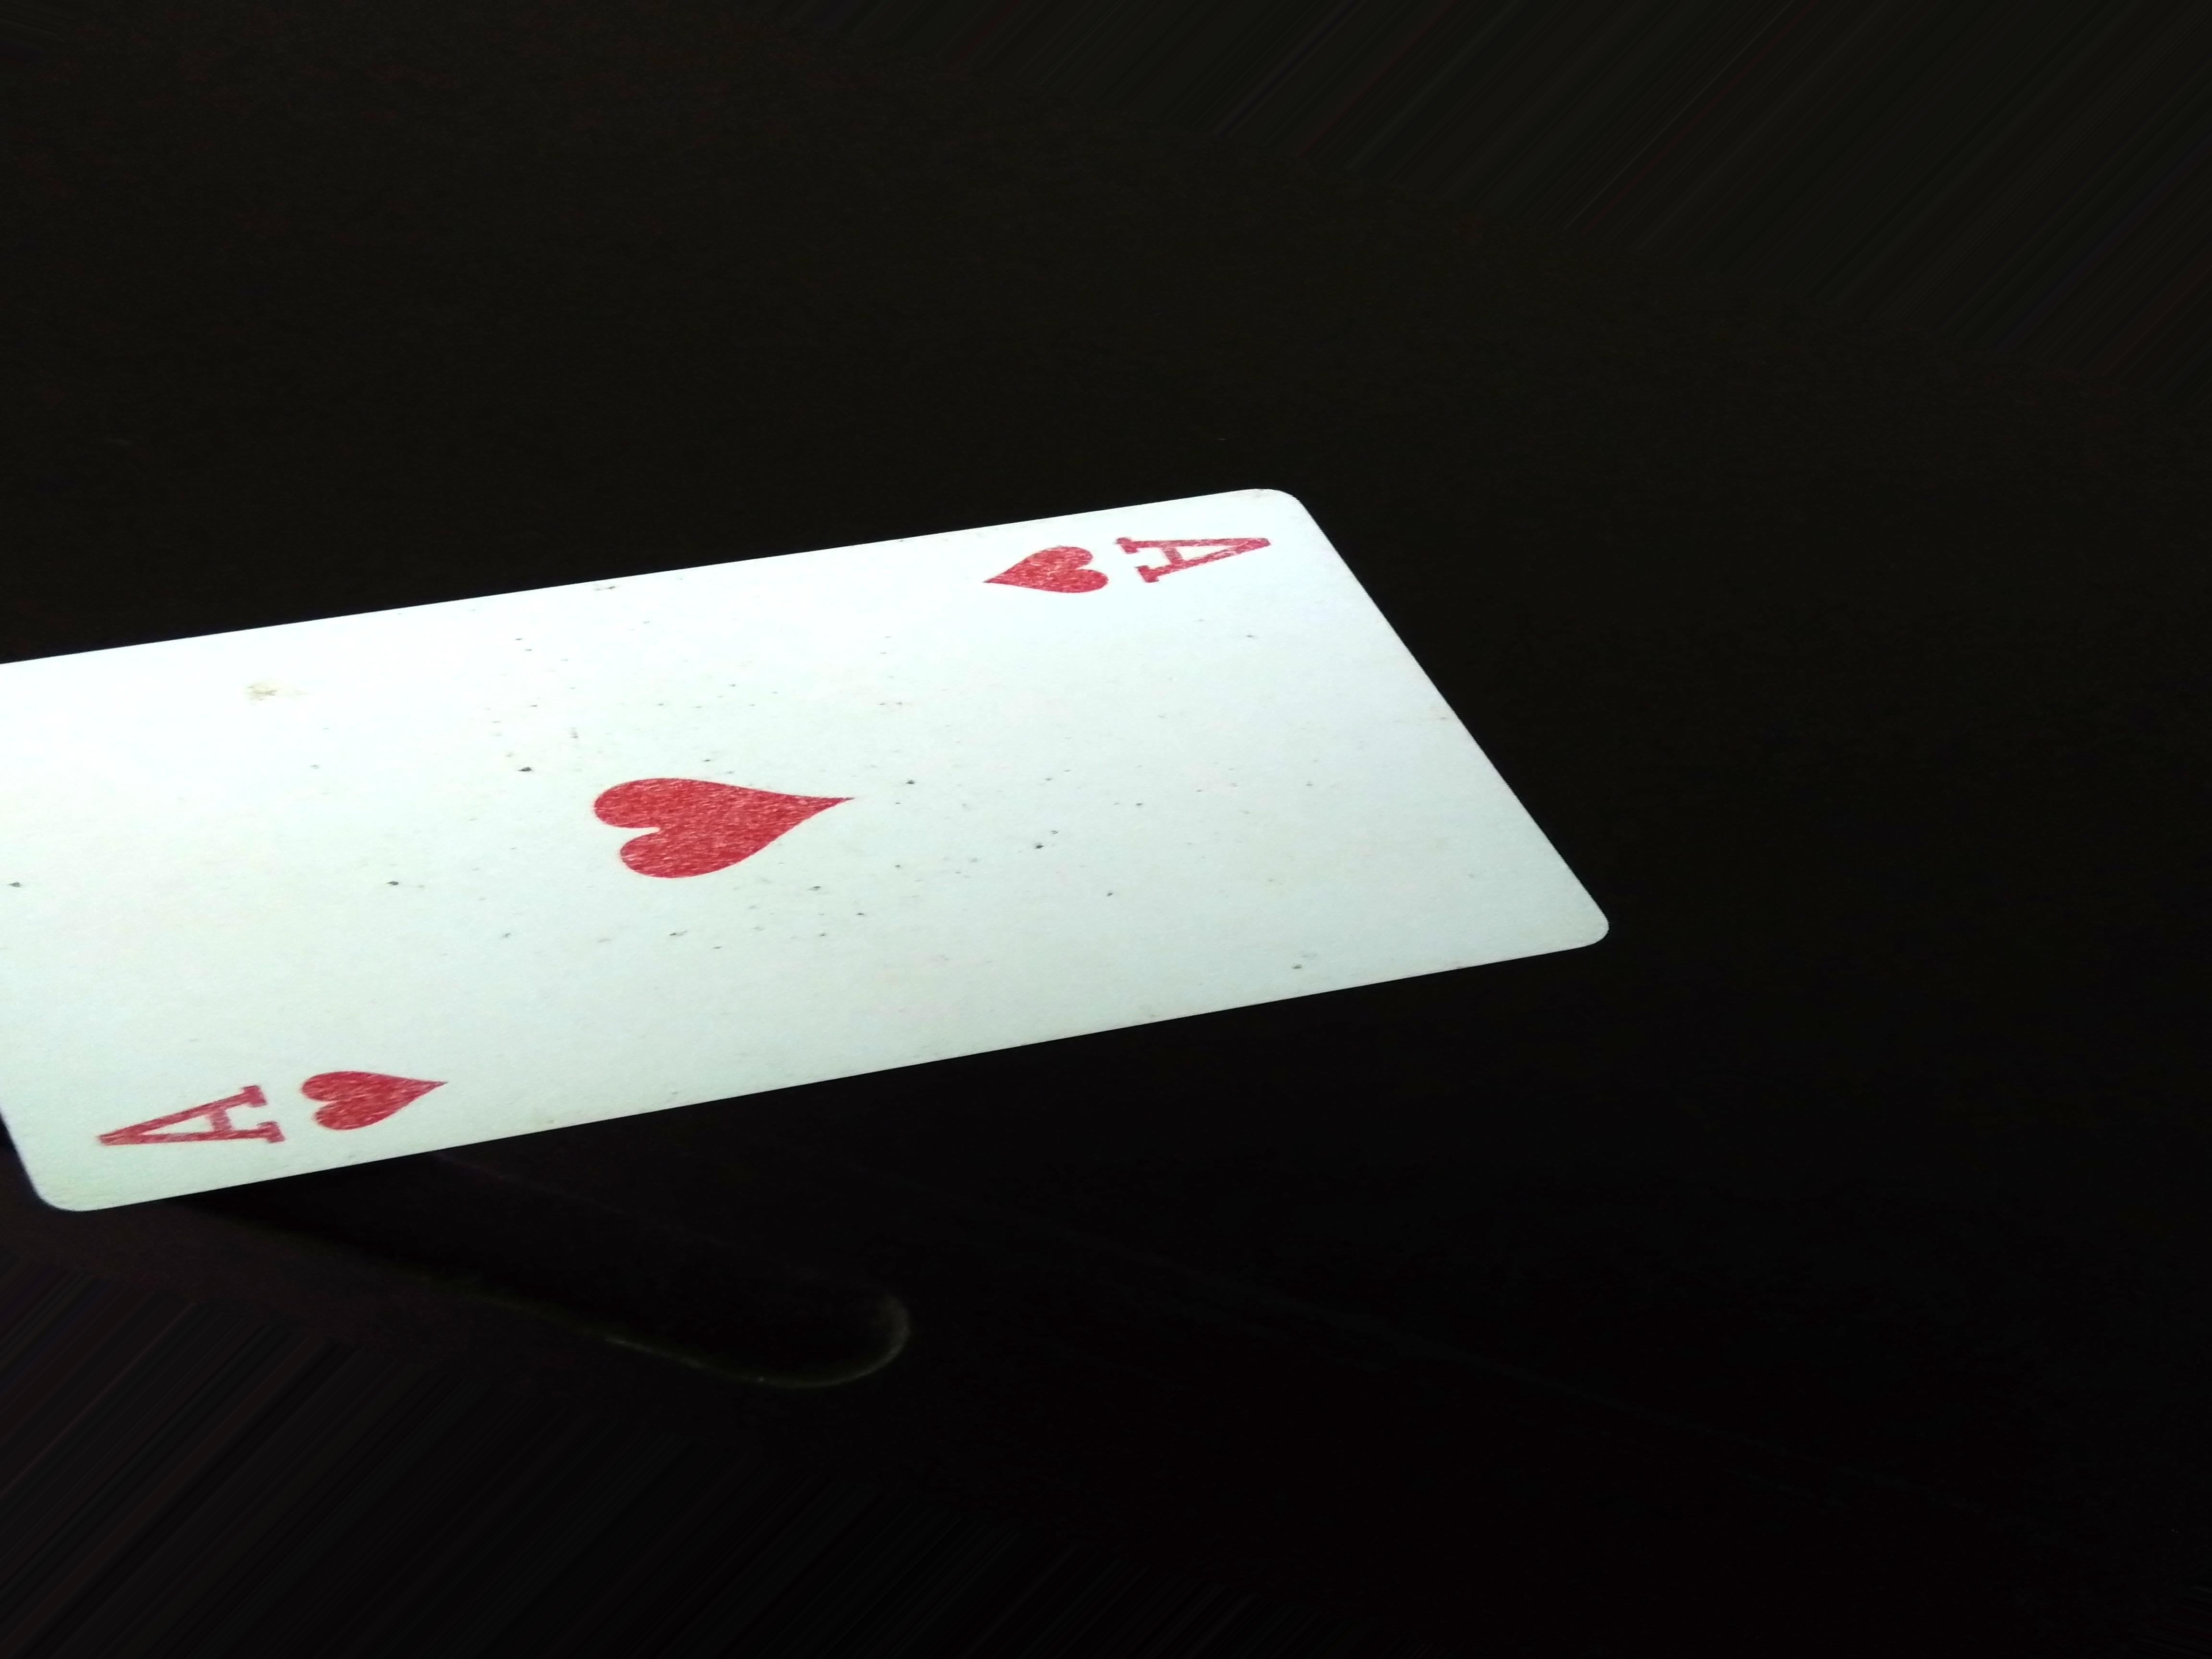AH: (988, 498, 1298, 615)
